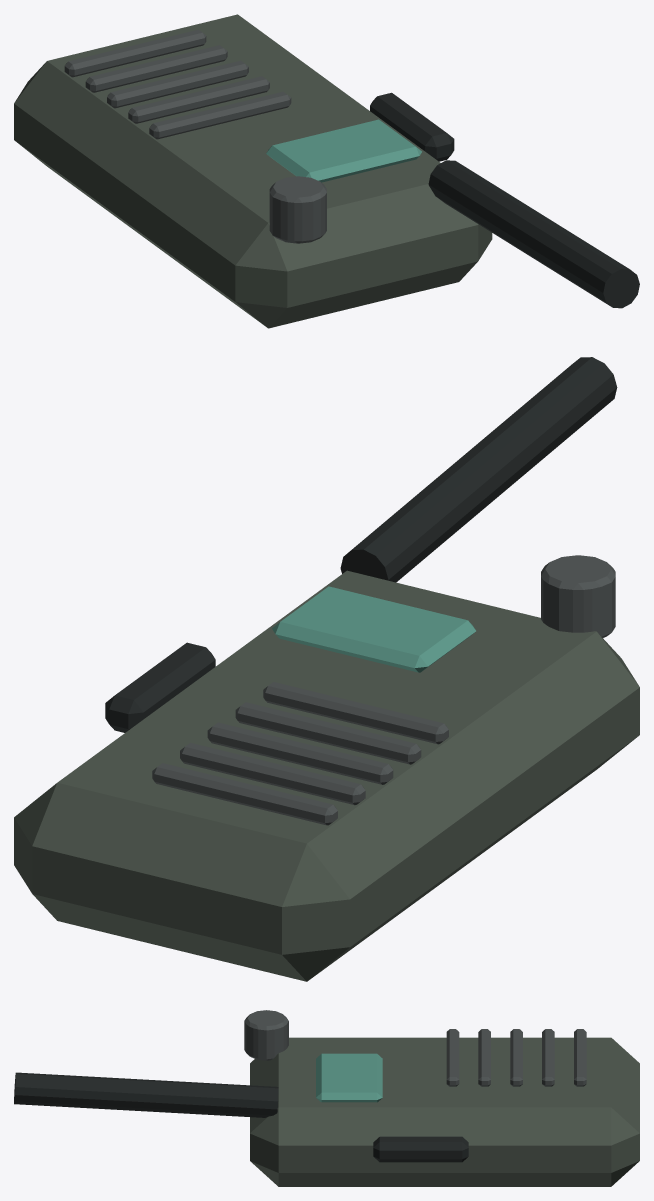
The model's file is item_radio.glb.
3 renders of one model, top to bottom at view 1: azimuth 30°, elevation 25°; view 2: azimuth 150°, elevation 25°; view 3: azimuth 270°, elevation 25°, orthographic. The views are drawn at different scales.
Visible parts, largest first — view 1: item_radio; view 2: item_radio; view 3: item_radio.
Boxes of the visible parts, x1,y1,x2,y2 form: item_radio: (14, 14, 639, 328); item_radio: (14, 357, 639, 981); item_radio: (14, 1010, 639, 1186).
Bounding box in the file's own units: 0.156 × 0.075 × 0.3931.
